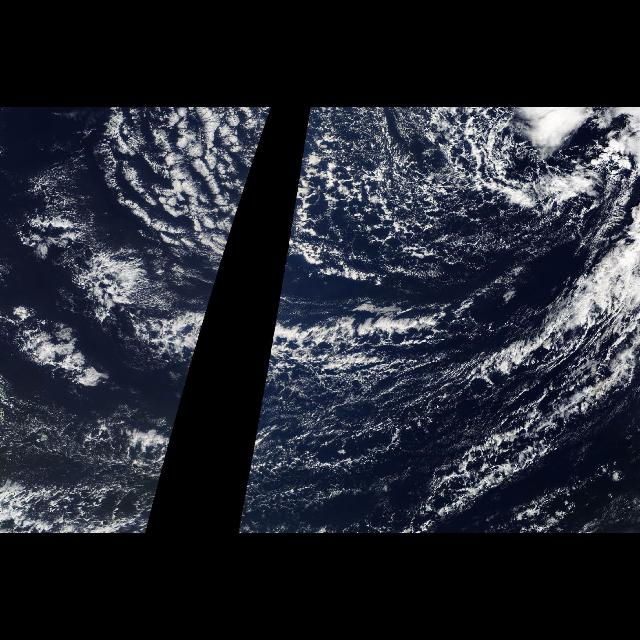Fish: (239, 108, 639, 518), (29, 108, 272, 518)
